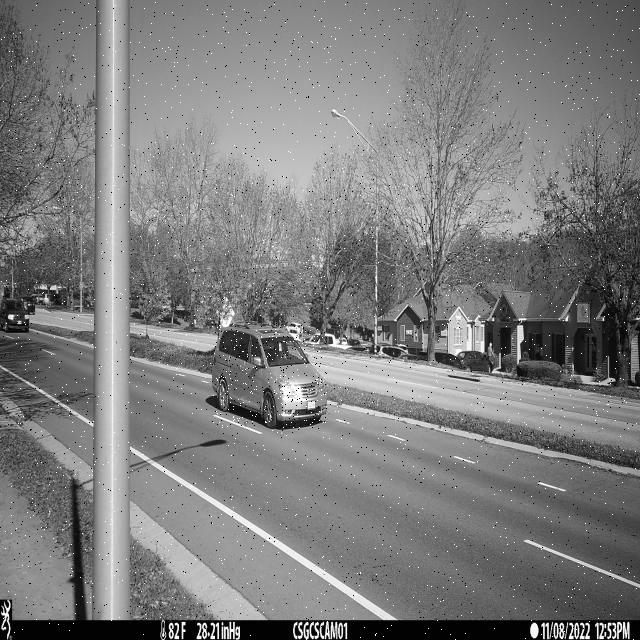Van: (212, 323, 327, 428)
